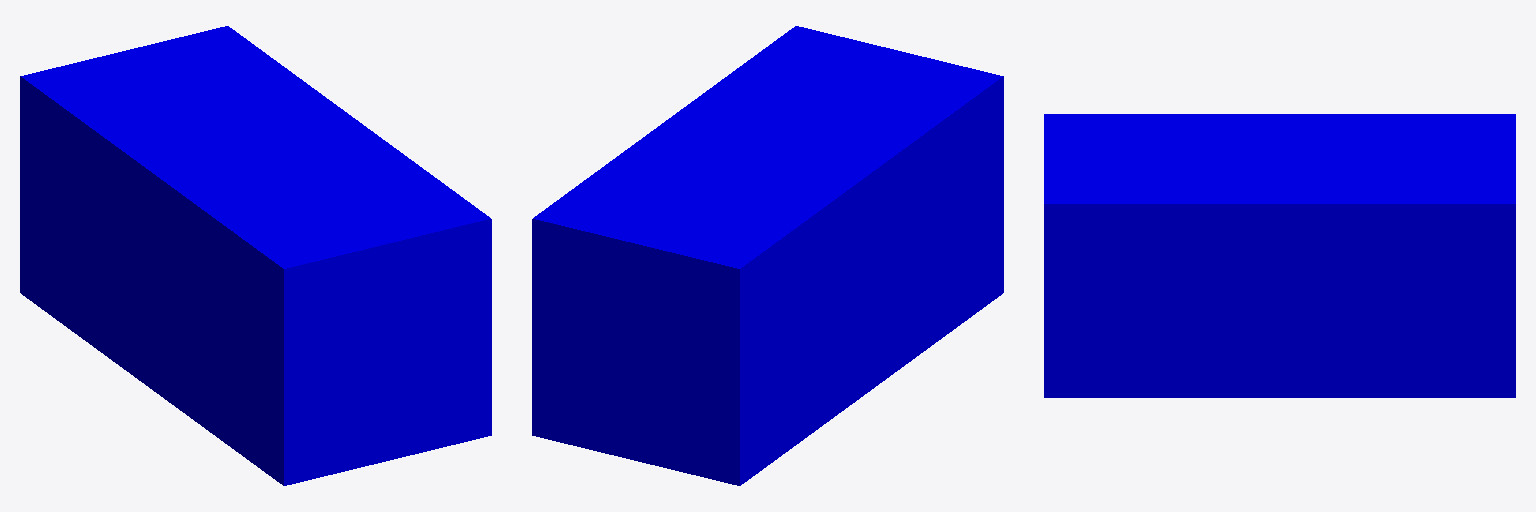
robot.urdf — large_box:
<?xml version="1.0" ?>
<robot name="large_box">
  <link name="base">
    <inertial>
      <mass value="0.15"/>
      <inertia ixx="0.00003" iyy="0.00003" izz="0.00003"/>
    </inertial>
    <visual>
      <geometry>
        <box size="0.05 0.11 0.05"/>
      </geometry>
      <material name="blue">
        <color rgba="0 0 1 1"/>
      </material>
    </visual>
    <collision>
      <geometry>
        <box size="0.05 0.11 0.05"/>
      </geometry>
    </collision>
  </link>
</robot>

--- Render facts (derived) ---
Views: 3 orthographic renders of the robot side by side, from view 1: azimuth 30°, elevation 25°; view 2: azimuth 150°, elevation 25°; view 3: azimuth 270°, elevation 25°.
Robot: large_box — 1 links, 0 joints (none); root link base; default pose: every joint at zero.
Links seen in each view (by area): view 1: base; view 2: base; view 3: base.
Boxes of the visible links, left/top/right/bottom form: base: left=20, top=26, right=491, bottom=485; base: left=532, top=26, right=1003, bottom=485; base: left=1044, top=114, right=1515, bottom=397.
Bounding box of the posed robot: 0.05 × 0.11 × 0.05 m (x, y, z).
Geometry: primitives only (box / cylinder / sphere), no mesh files.